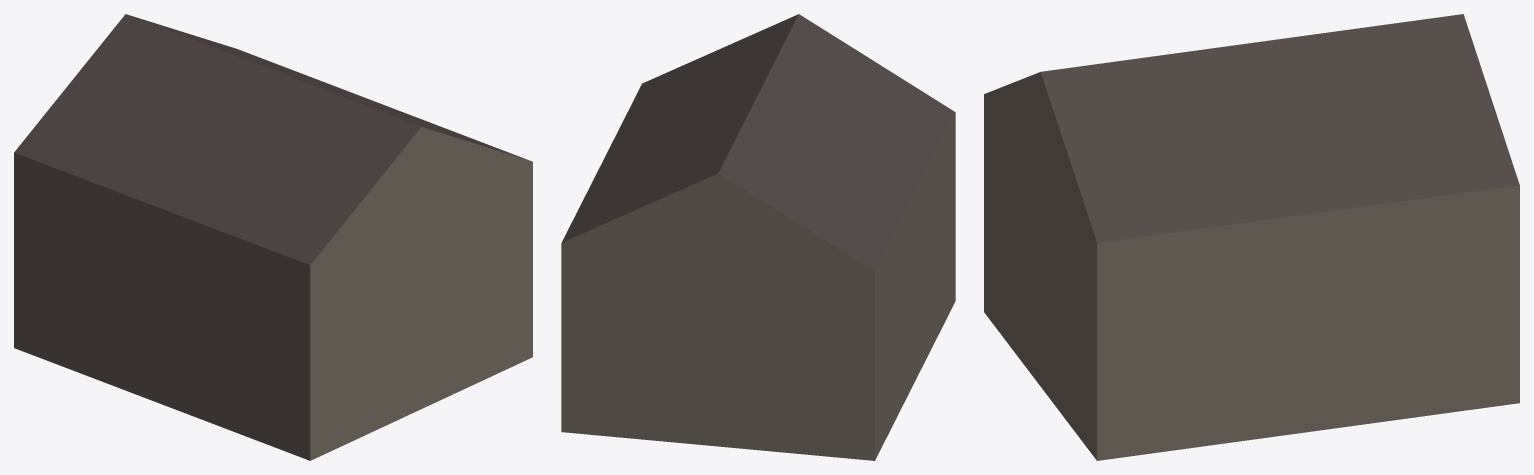
3 renders of one model, left to right at view 1: azimuth 30°, elevation 25°; view 2: azimuth 150°, elevation 25°; view 3: azimuth 270°, elevation 25°, orthographic. The views are drawn at different scales.
Parts seen in each view (by area): view 1: HP-w1367350956; view 2: HP-w1367350956; view 3: HP-w1367350956.
Part boxes in pixels (bbox=[...]): HP-w1367350956: bbox=[14, 14, 532, 460]; HP-w1367350956: bbox=[561, 14, 955, 460]; HP-w1367350956: bbox=[984, 14, 1519, 460].
Size of the model in its own units: 12.2 by 8.66 by 13.36.
